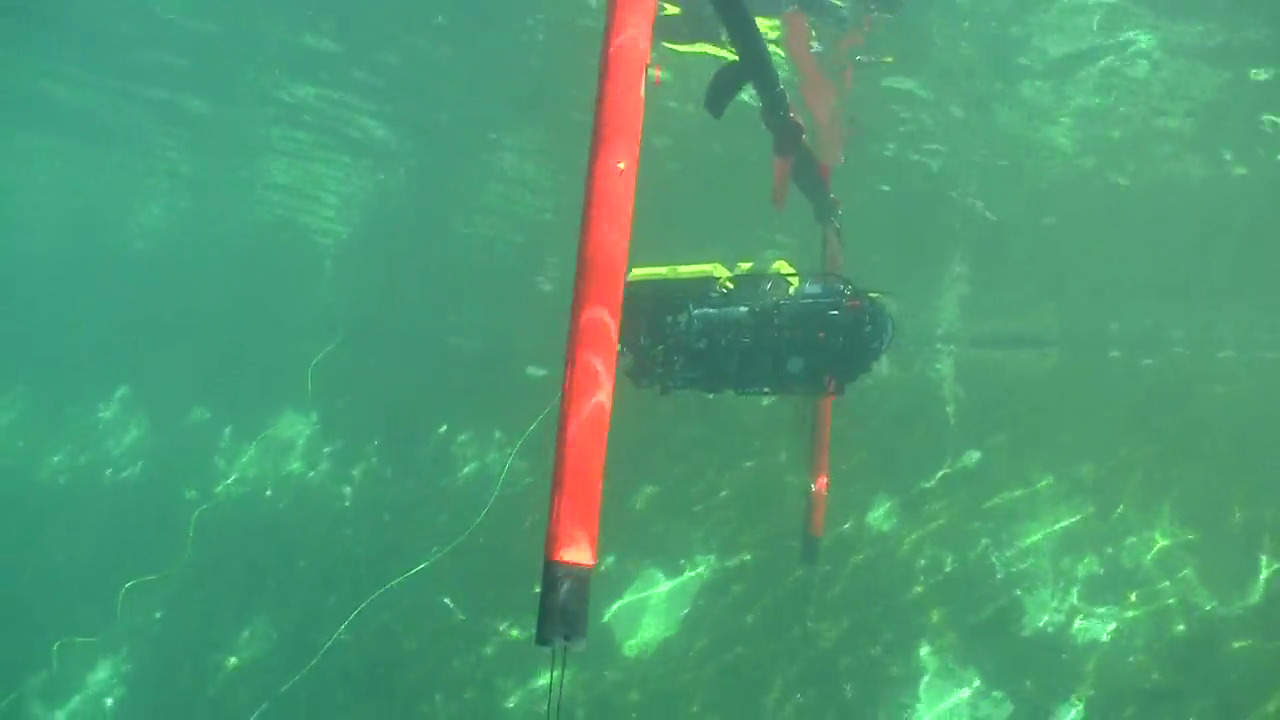gate: (524, 1, 869, 660)
